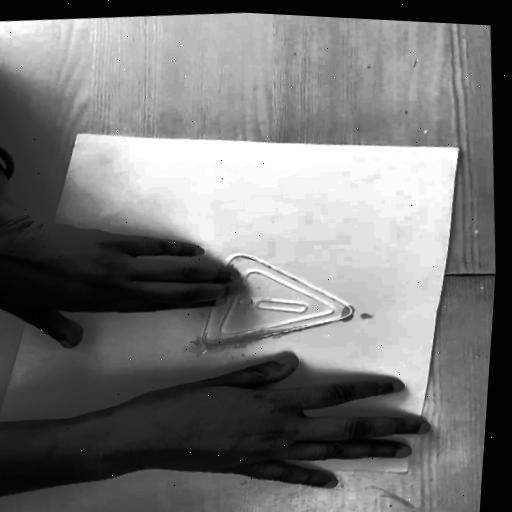bottom_left: (66, 129, 81, 140)
signboard: (79, 238, 369, 360)
top_left: (445, 144, 461, 153)
top_right: (394, 467, 418, 478)
